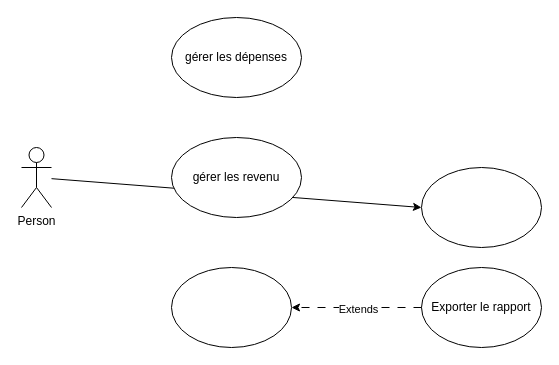
The diagram is 559 pixels wide and 365 high, and some of its shapes have lost their labels. The shapes that lost their labels are listed below. From the top down, each one's centre as x and y in pixels, then its label:
point 481,207: Calculer le solde
point 231,307: Générer un rapport financier
